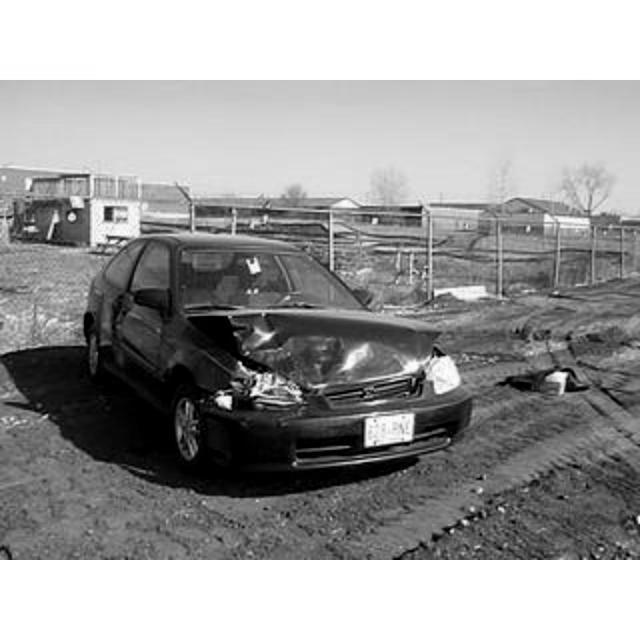Headlight-damage: (236, 370, 312, 422)
bonnet-dent: (216, 298, 434, 372)
